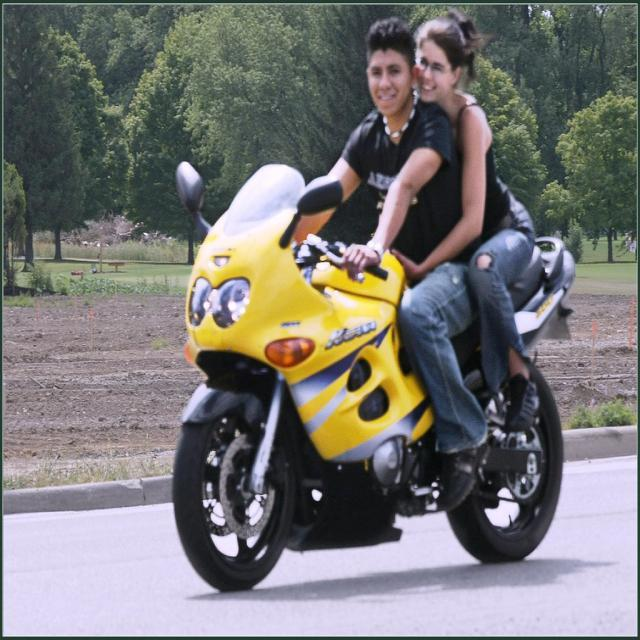No helmet: (350, 12, 422, 114)
